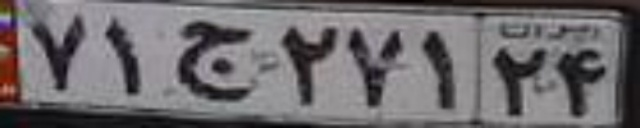1: (420, 30, 458, 109), (103, 20, 141, 94)
2: (283, 26, 335, 105), (492, 46, 548, 116)
4: (559, 48, 606, 118)
7: (345, 28, 405, 108), (27, 12, 87, 90)
jim: (177, 21, 253, 102)
